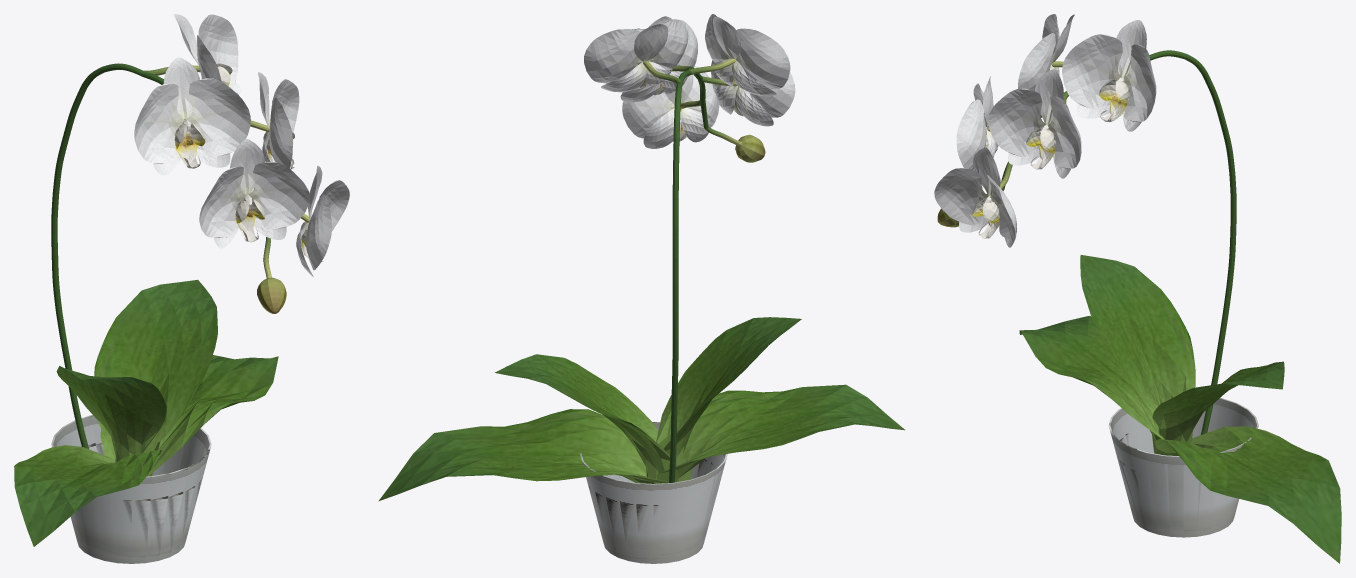
3 views of the same model, side by side, from view 1: azimuth 30°, elevation 25°; view 2: azimuth 150°, elevation 25°; view 3: azimuth 270°, elevation 25° (orthographic). The views are drawn at different scales.
Visible parts, largest first — view 1: Object_4, Object_7, Object_5, Object_2, Object_6, Object_8; view 2: Object_5, Object_7, Object_2, Object_4, Object_6, Object_8; view 3: Object_5, Object_6, Object_2, Object_4, Object_7, Object_8.
Part boxes in pixels (<box>): Object_4: <box>94,97,313,462</box>; Object_7: <box>14,78,250,546</box>; Object_5: <box>56,57,349,476</box>; Object_2: <box>51,414,211,563</box>; Object_6: <box>14,14,299,543</box>; Object_8: <box>51,63,309,448</box>; Object_5: <box>378,16,801,501</box>; Object_7: <box>657,14,904,476</box>; Object_2: <box>579,422,727,563</box>; Object_4: <box>495,19,795,478</box>; Object_6: <box>584,16,904,482</box>; Object_8: <box>643,58,742,482</box>; Object_5: <box>934,14,1341,563</box>; Object_6: <box>937,20,1162,453</box>; Object_2: <box>1108,397,1258,537</box>; Object_4: <box>956,76,1284,442</box>; Object_7: <box>1018,14,1164,439</box>; Object_8: <box>986,50,1236,434</box>.
Size of the model in its own units: 0.3849 by 0.5 by 0.3627.
3 materials, 2 textured.
